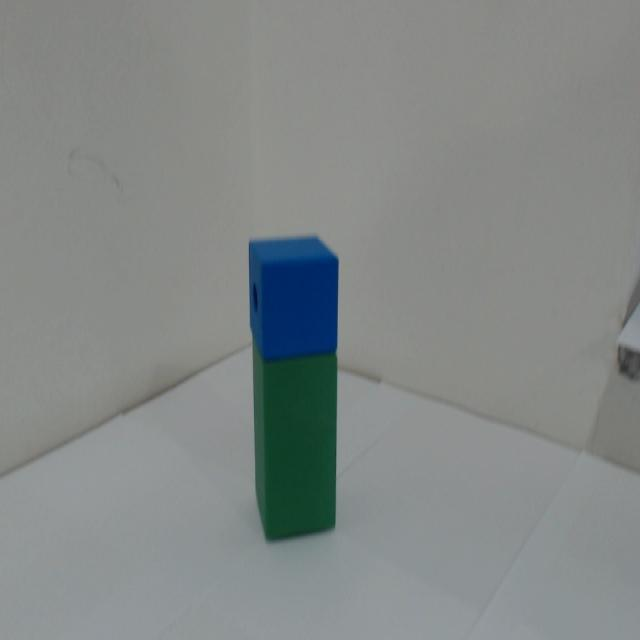cube: (222, 253, 359, 366)
